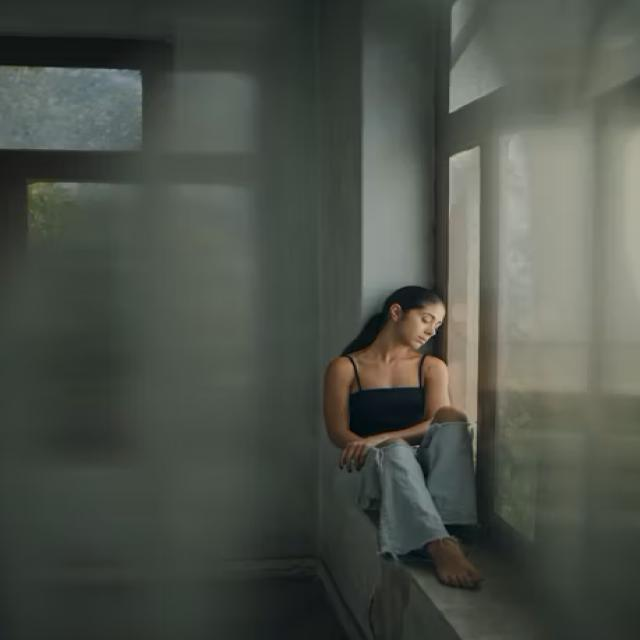Edited images: (304, 267, 507, 600)
